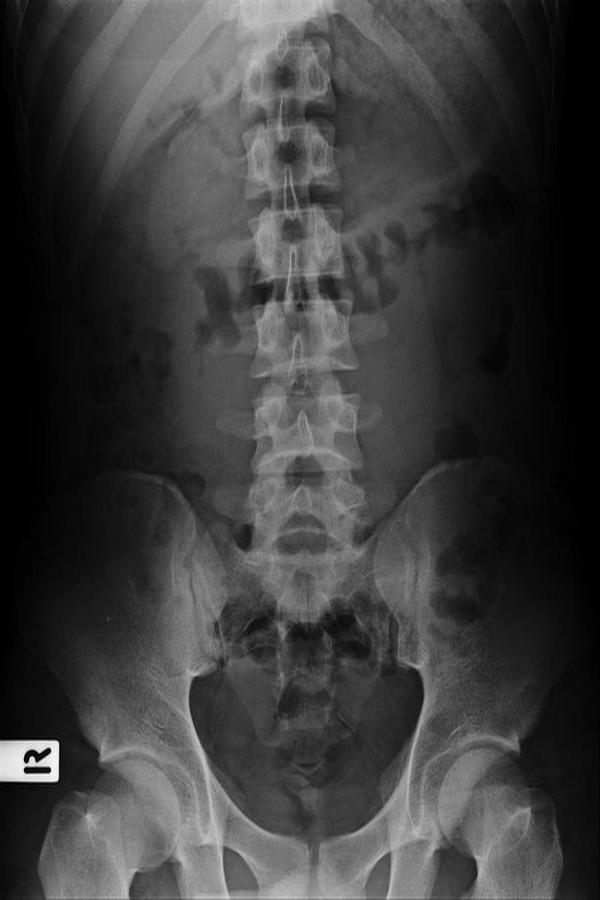lumbar scoliosis: (231, 7, 368, 580)
